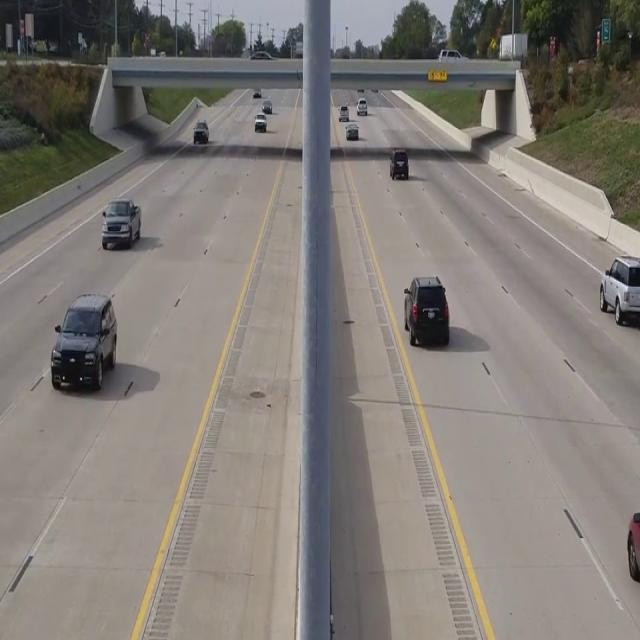car: (51, 293, 117, 392), (403, 274, 449, 347), (599, 255, 640, 328), (100, 198, 140, 249), (390, 148, 408, 179), (192, 118, 208, 144)
